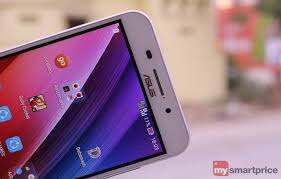asus: (1, 10, 195, 178)
